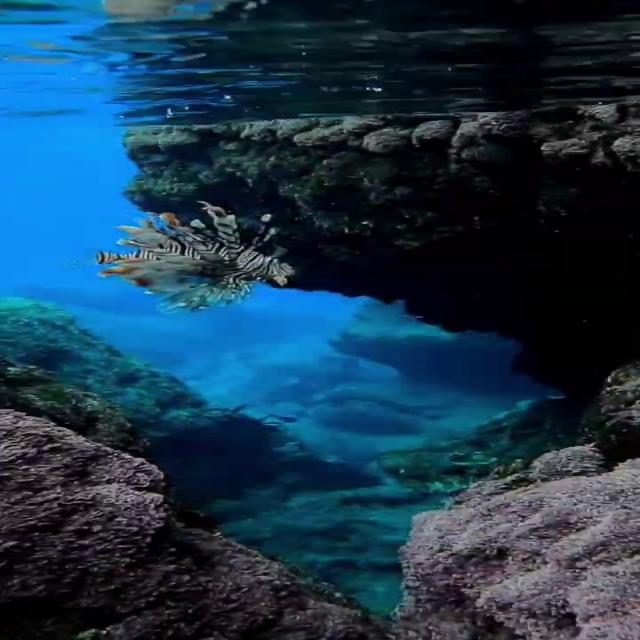Aslan Baligi: (98, 184, 302, 312)
